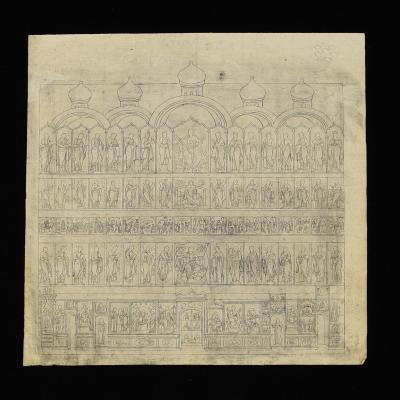graphics: (26, 34, 364, 364)
